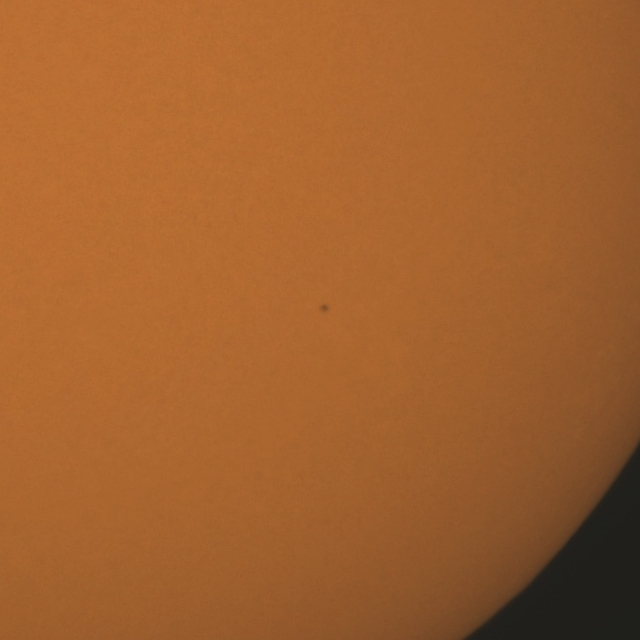sunspot: (318, 302, 330, 315)
